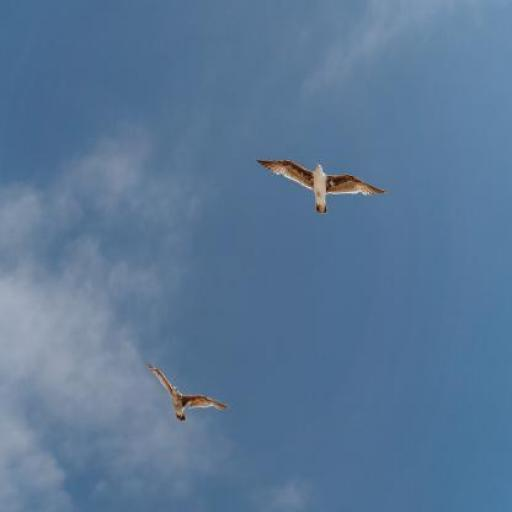bird: (256, 159, 390, 216), (147, 363, 227, 420)
